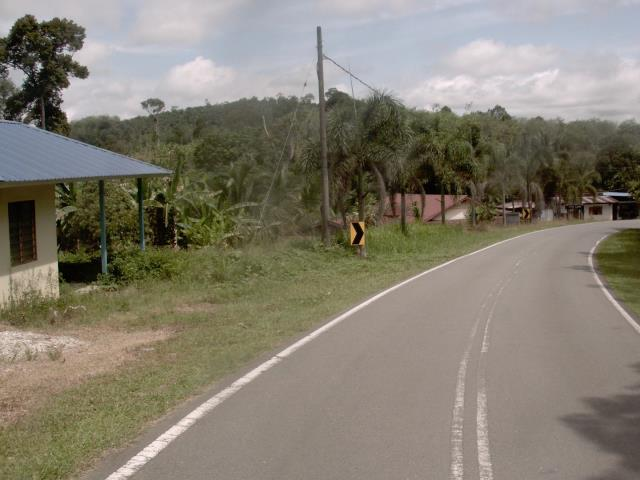traffic_sign: (343, 214, 370, 251)
